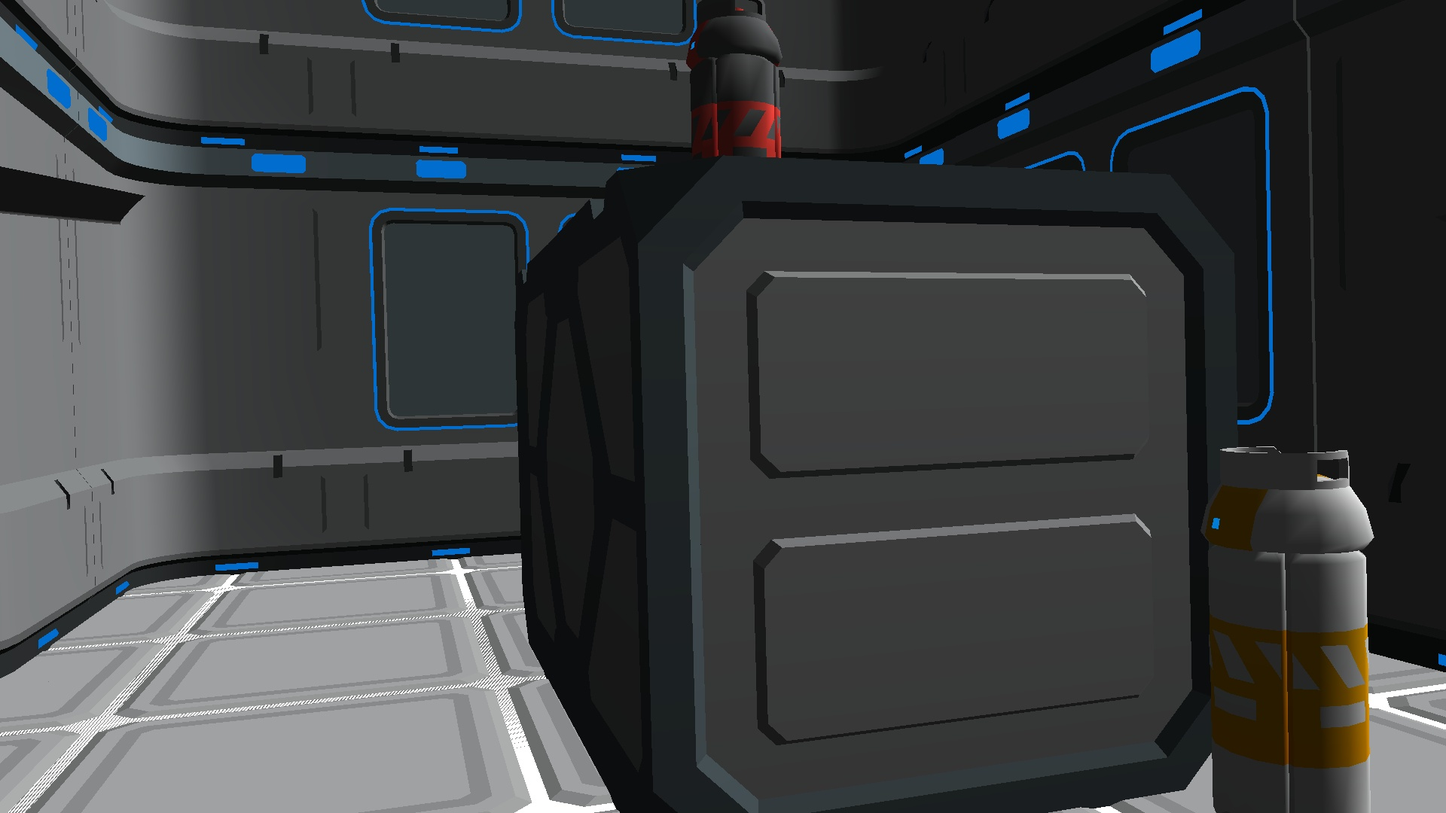red barrel: (686, 0, 783, 158)
yellow barrel: (1200, 446, 1374, 813)
